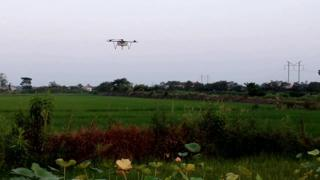UAV: (107, 39, 138, 50)
